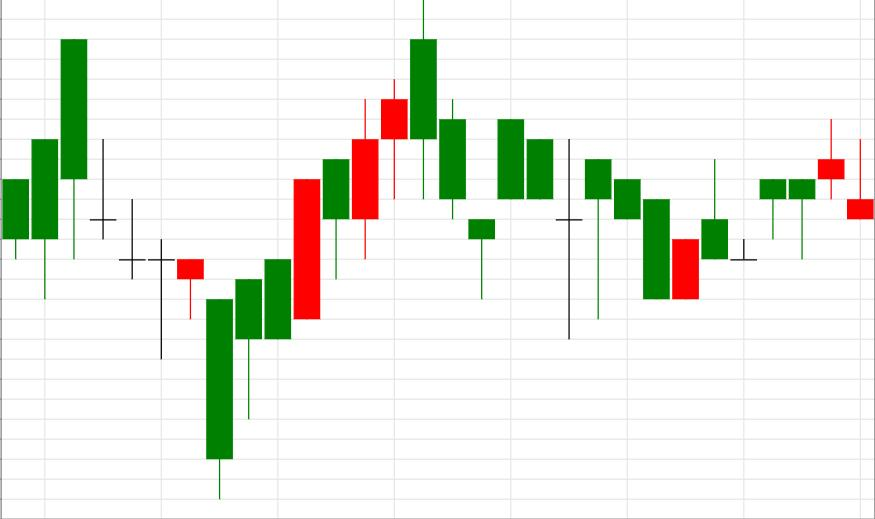hanging_man_fall: (293, 82, 408, 319)
